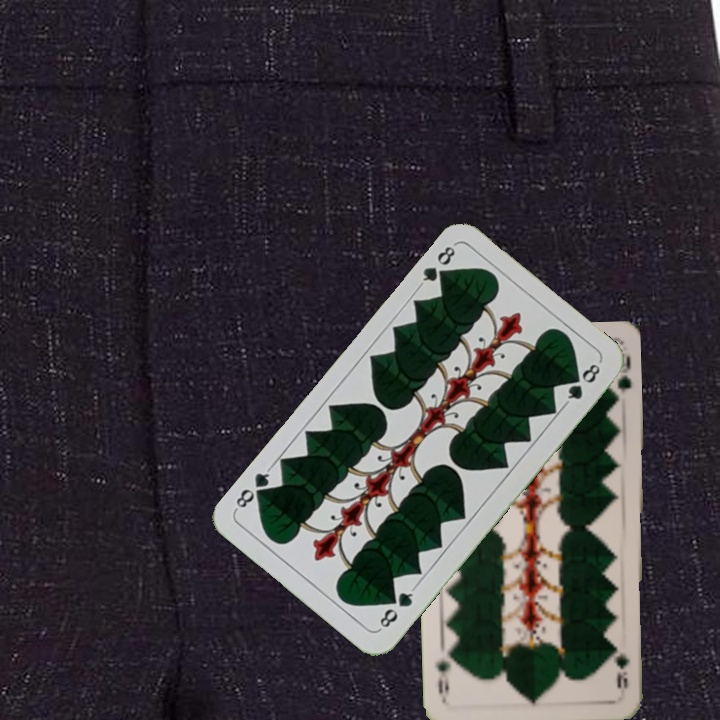G8: (373, 583, 417, 633), (415, 240, 458, 289)
G9: (614, 650, 633, 691)
